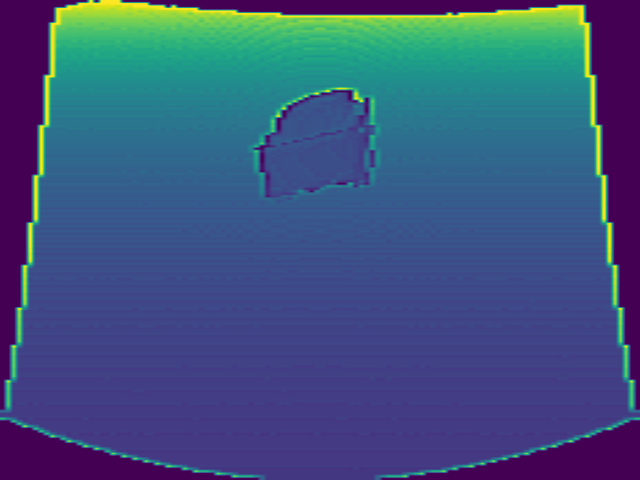car_0027: (256, 87, 380, 200)
